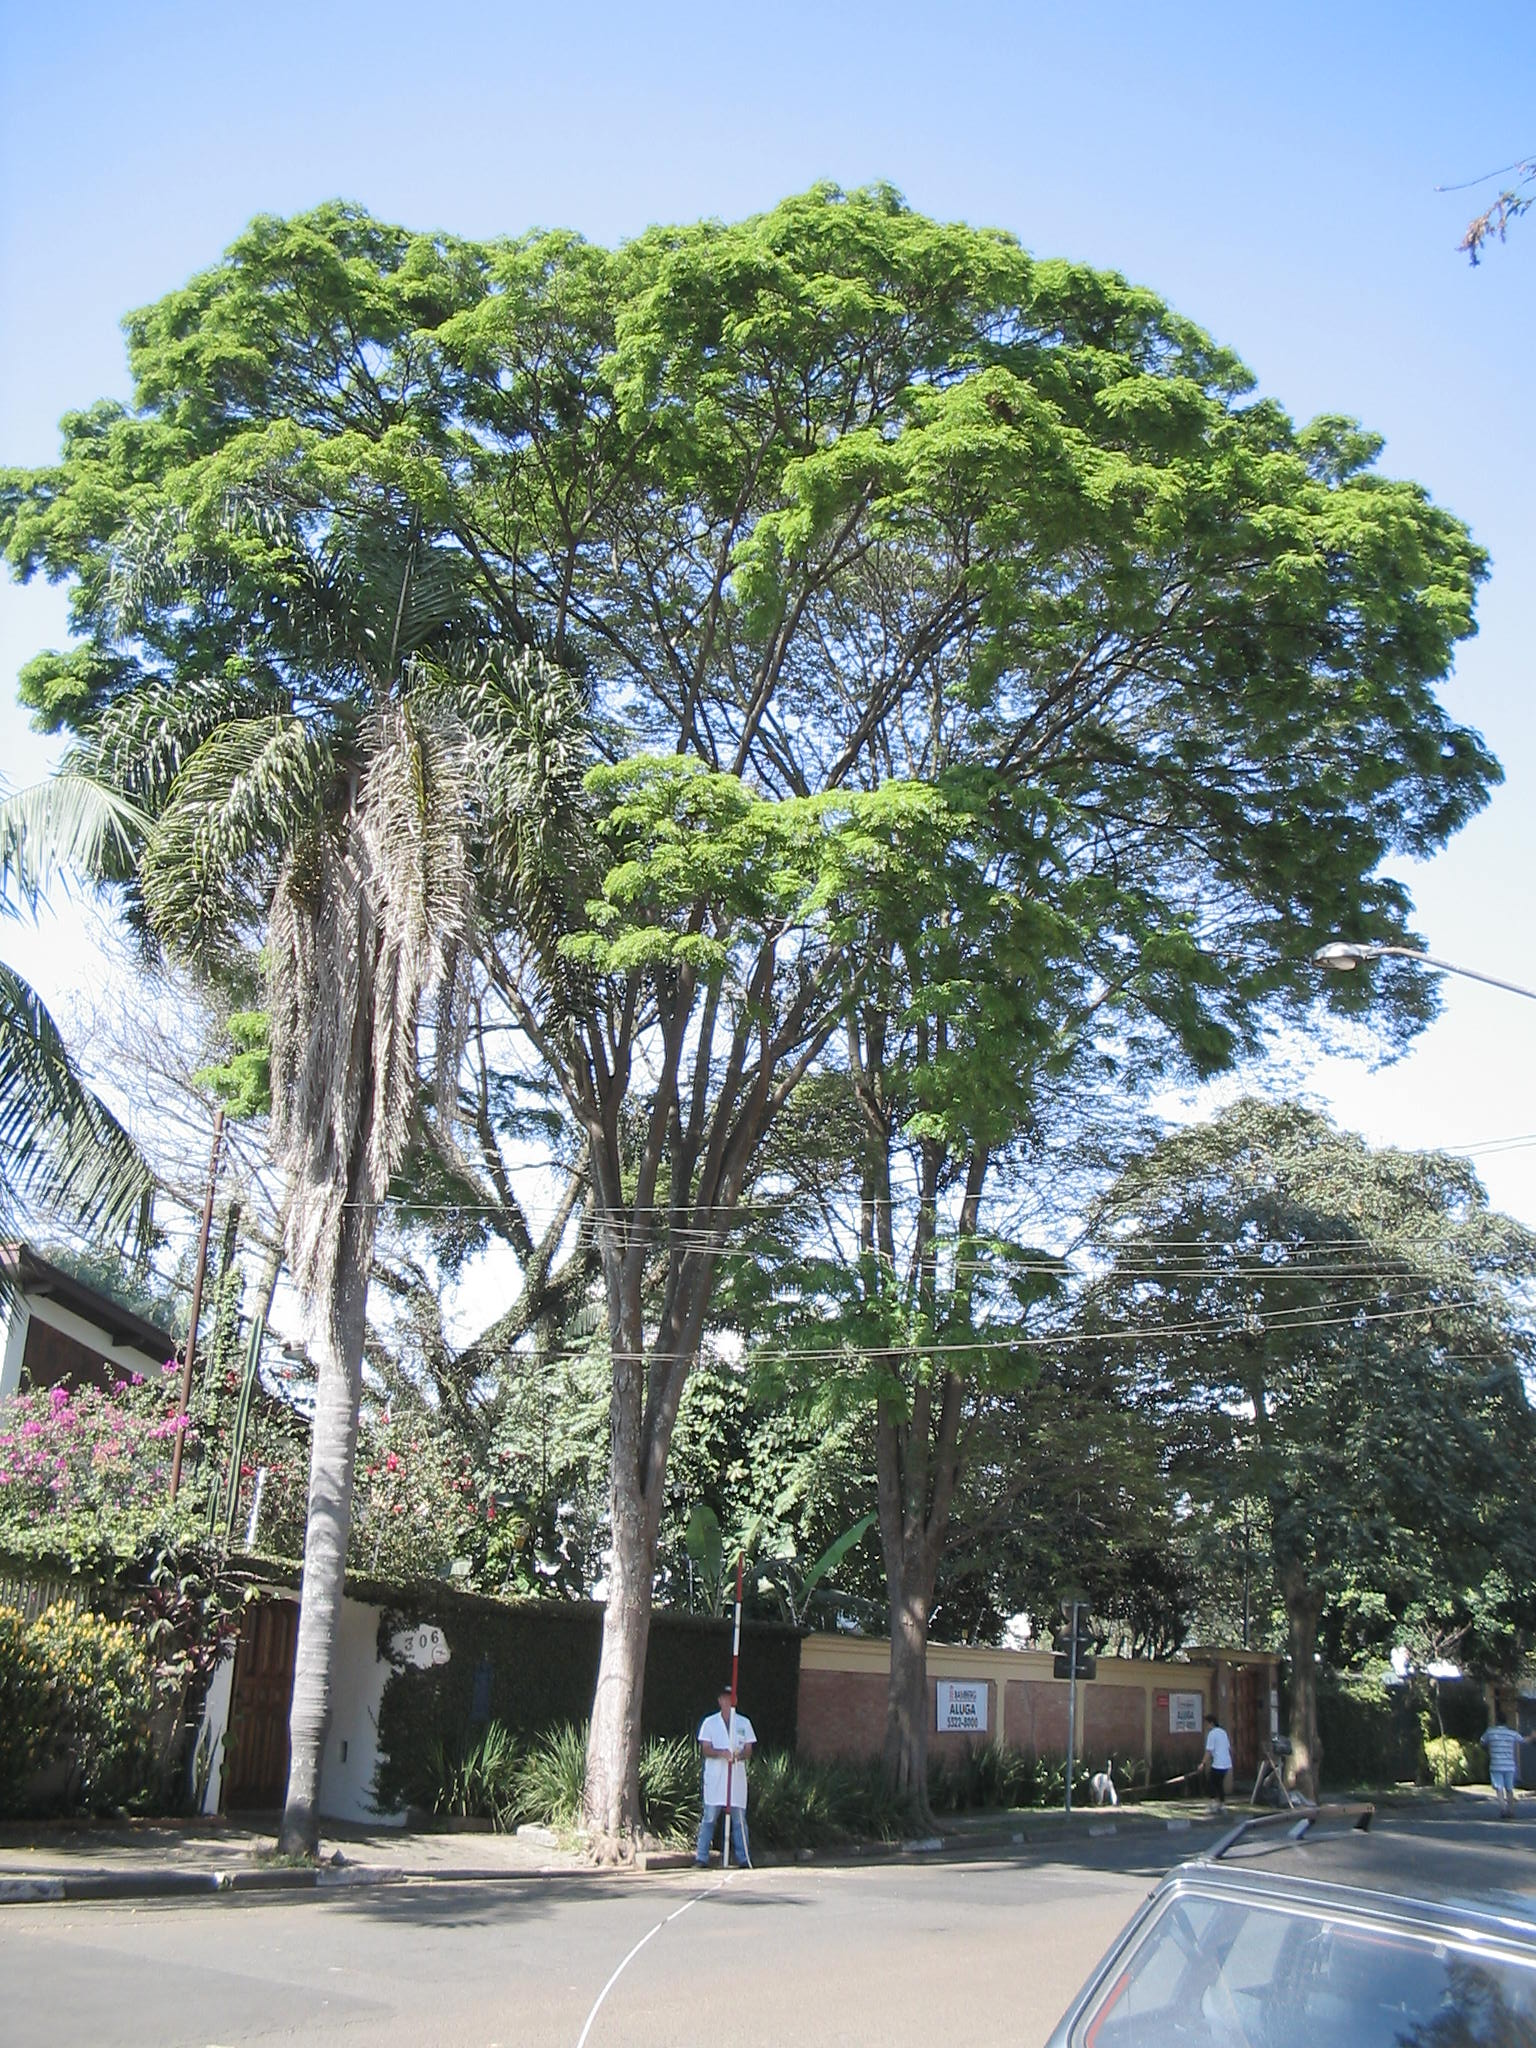crown: (10, 190, 1501, 1218), (1078, 1103, 1528, 1621)
stem: (553, 1487, 678, 1846), (1249, 1587, 1350, 1800)
stick: (708, 1551, 762, 1867)
tree: (2, 187, 1504, 1853), (1071, 1103, 1536, 1798)
